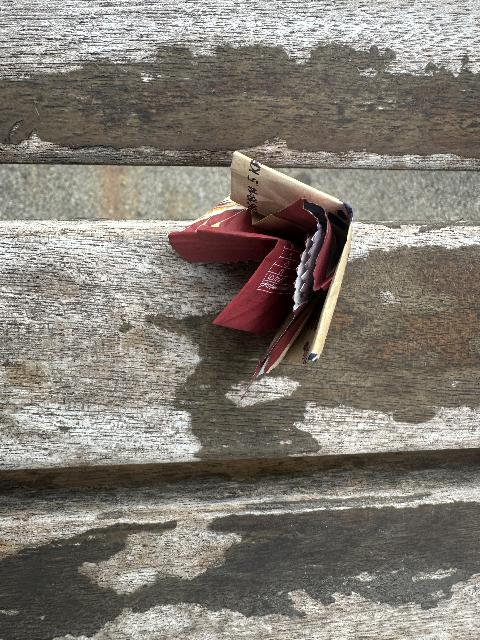Kagit: (171, 154, 352, 373)
